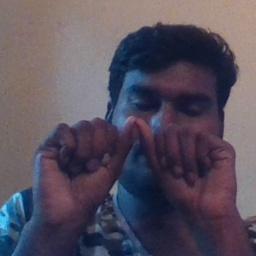A: (62, 108, 215, 212)
